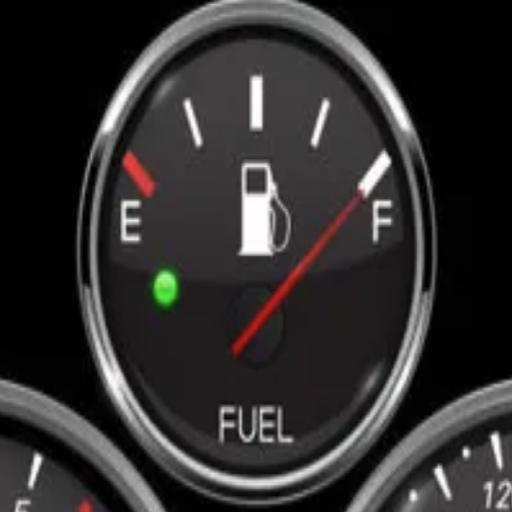empty: (117, 196, 144, 248)
fuel_icon: (230, 155, 296, 260)
full: (369, 198, 395, 246)
guage_area: (76, 0, 438, 469)
needle_center: (214, 273, 296, 373)
needle_tip: (331, 184, 366, 217)
